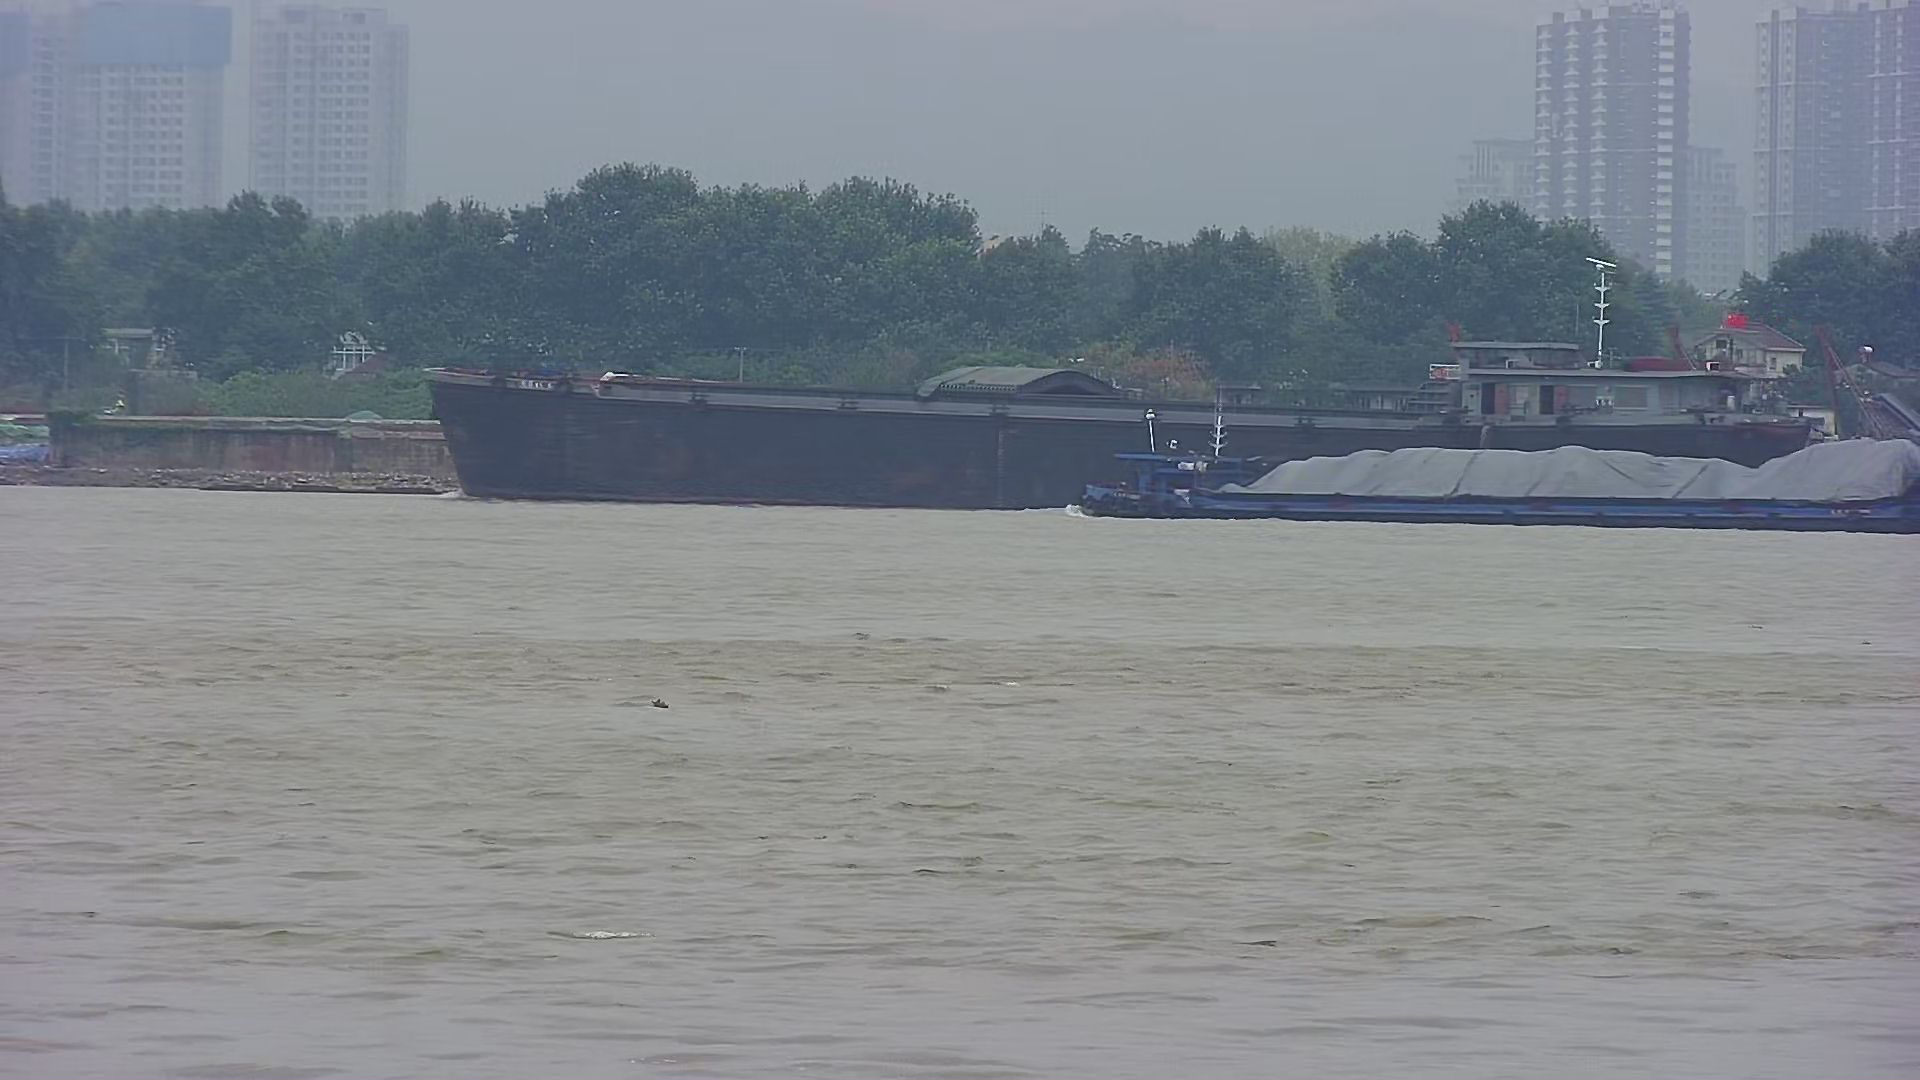ship: (425, 241, 1789, 508), (1062, 400, 1920, 535)
